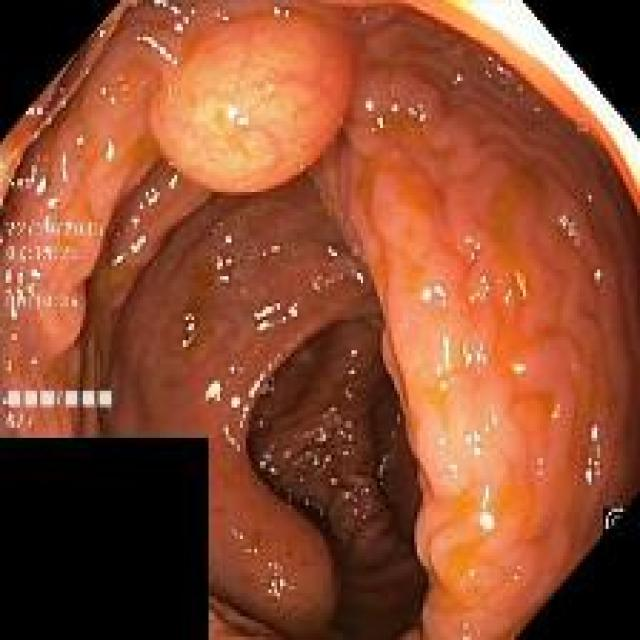Polyps: (309, 4, 640, 640), (150, 12, 354, 195)
